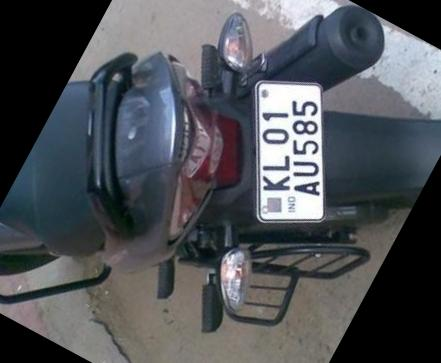plate: (214, 59, 358, 237)
